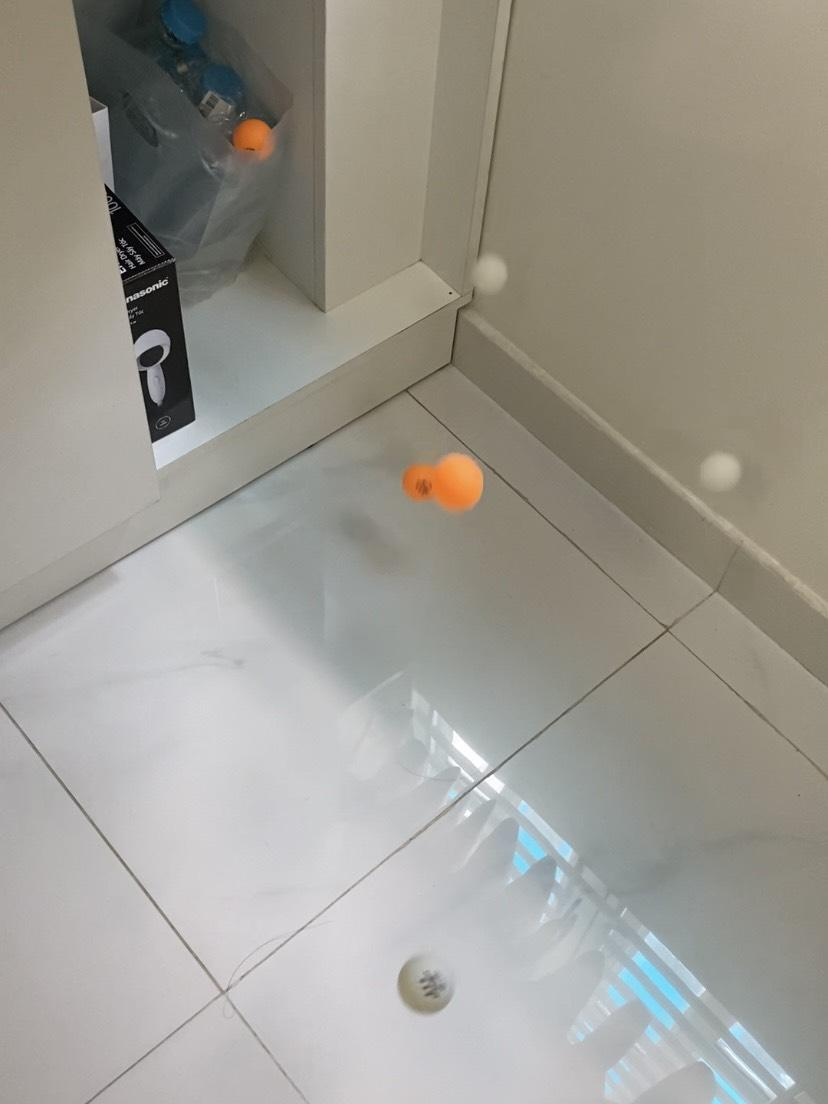oball: (428, 453, 483, 512), (233, 120, 273, 162), (403, 462, 442, 503)
